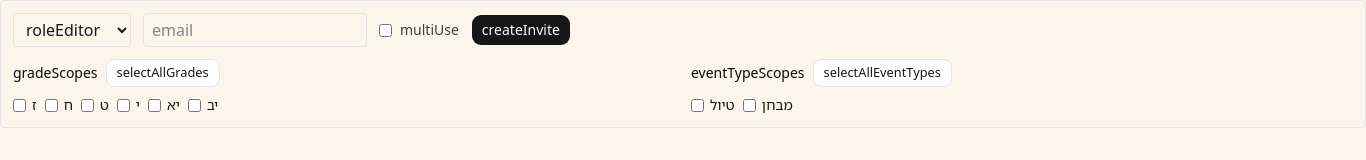
Test: admin staff role permissions › toggles all invite grade and event type scopes on and off
Click the button "selectAllGrades" at (163, 73), box top-left (106, 59), bottom-right (220, 87)
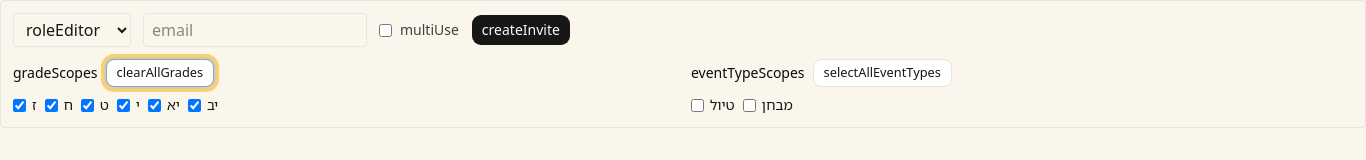
Now the checkbox labelled "ז" is checked, box top-left (13, 98), bottom-right (26, 112)
Now the checkbox labelled "יב" is checked, box top-left (188, 98), bottom-right (201, 112)
Click the button "clearAllGrades" at (160, 73), box top-left (106, 59), bottom-right (214, 87)
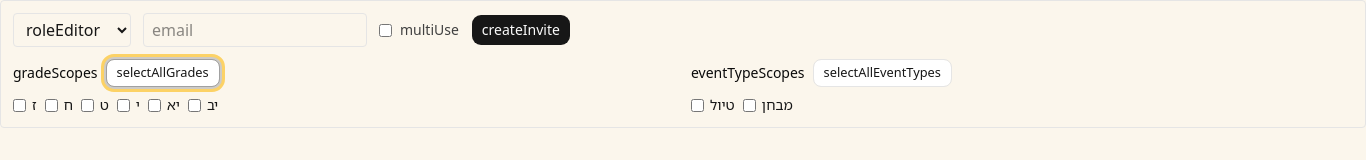
Now the checkbox labelled "ז" is not checked, box top-left (13, 98), bottom-right (26, 112)
Now the checkbox labelled "יב" is not checked, box top-left (188, 98), bottom-right (201, 112)
Click the button "selectAllEventTypes" at (882, 73), box top-left (813, 59), bottom-right (952, 87)
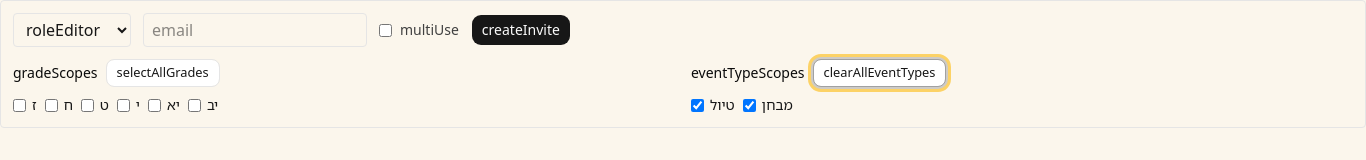
Now the checkbox labelled "טיול" is checked, box top-left (691, 98), bottom-right (704, 112)
Now the checkbox labelled "מבחן" is checked, box top-left (742, 98), bottom-right (756, 112)
Click the button "clearAllEventTypes" at (880, 73), box top-left (813, 59), bottom-right (946, 87)
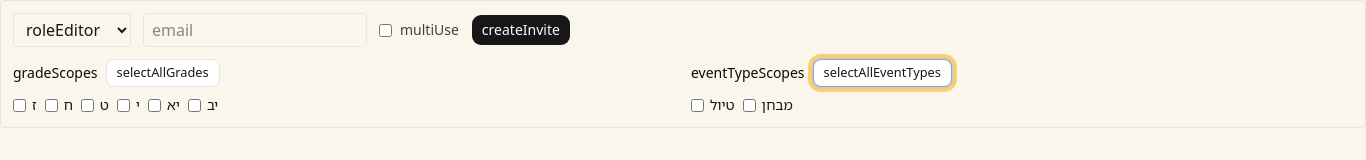
Now the checkbox labelled "טיול" is not checked, box top-left (691, 98), bottom-right (704, 112)
Now the checkbox labelled "מבחן" is not checked, box top-left (742, 98), bottom-right (756, 112)
